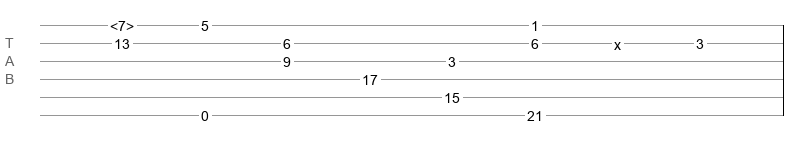0: (201, 108, 209, 118)
1: (531, 18, 539, 28)
13: (114, 36, 130, 46)
15: (444, 90, 460, 100)
17: (362, 72, 378, 82)
21: (527, 108, 543, 118)
3: (448, 54, 456, 64), (696, 36, 704, 46)
5: (201, 18, 209, 28)
6: (283, 36, 291, 46), (531, 36, 539, 46)
9: (283, 54, 291, 64)
harmonic: (110, 18, 134, 28)
x: (614, 37, 621, 45)
